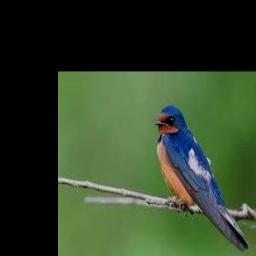Swallow: (154, 107, 249, 251)
